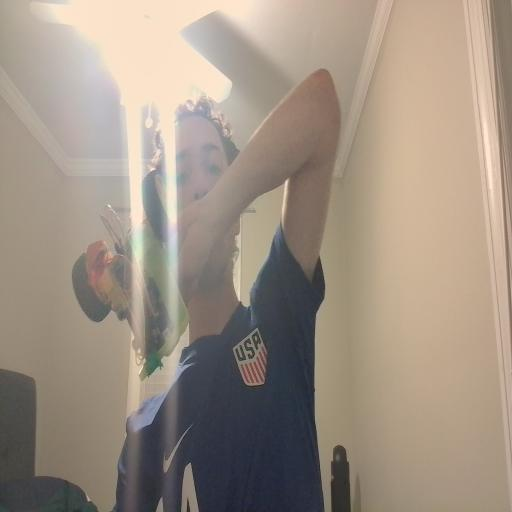green LEGO minifig: (145, 351, 164, 379)
